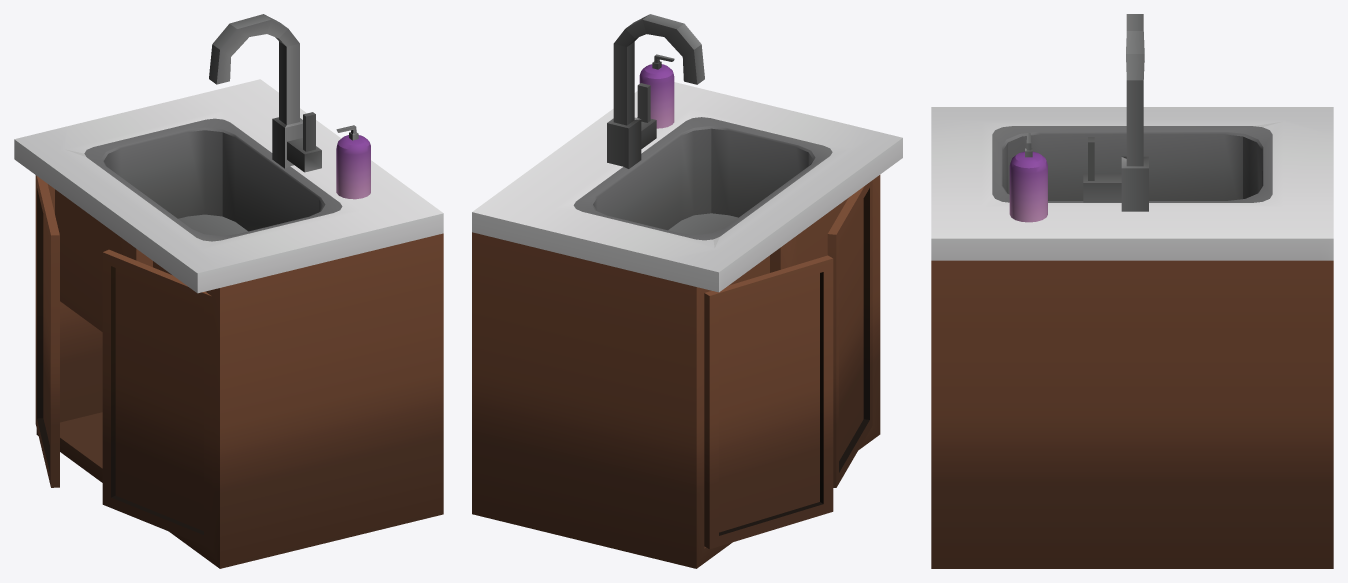
File: ST_ToiletSink.fbx
The picture shows the model from 3 angles, left to right: view 1: azimuth 30°, elevation 25°; view 2: azimuth 150°, elevation 25°; view 3: azimuth 270°, elevation 25°; orthographic projection. The views are drawn at different scales.
Visible parts, largest first — view 1: ST_ToiletSink; view 2: ST_ToiletSink; view 3: ST_ToiletSink.
Boxes of the visible parts, bbox=[...] form: ST_ToiletSink: bbox=[14, 14, 443, 568]; ST_ToiletSink: bbox=[472, 14, 902, 568]; ST_ToiletSink: bbox=[931, 14, 1333, 568].
Size of the model in its own units: 66.18 by 99.93 by 73.79.
